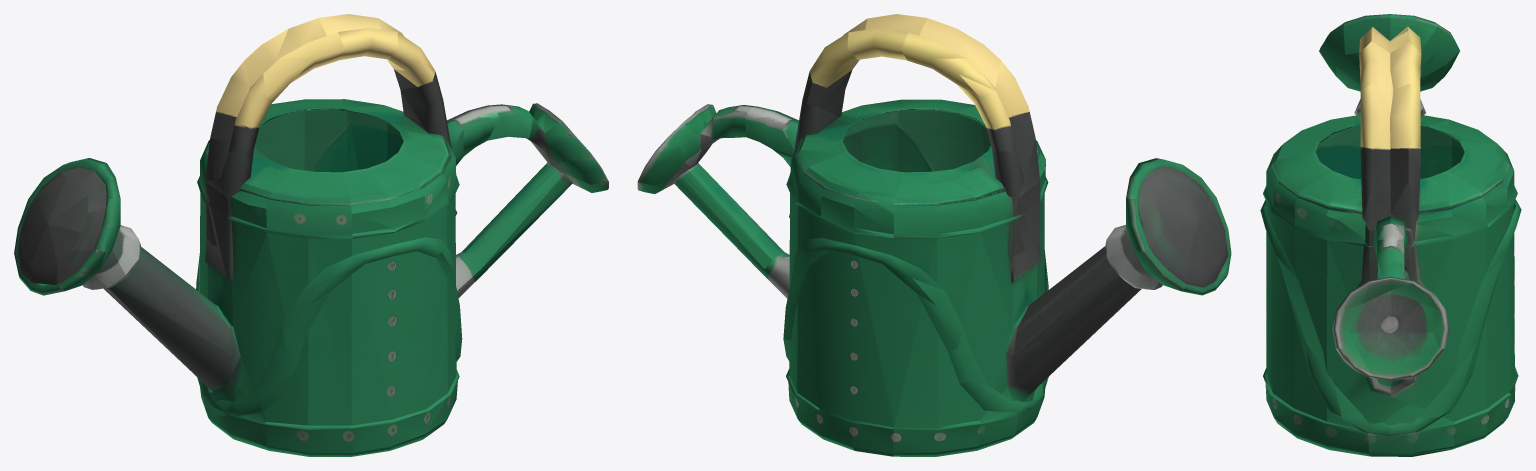
Rendered from watering-can.glb.
3 renders of one model, left to right at view 1: azimuth 30°, elevation 25°; view 2: azimuth 150°, elevation 25°; view 3: azimuth 270°, elevation 25°, orthographic. The views are drawn at different scales.
Size of the model in its own units: 1 by 0.6484 by 0.4199.
1 material, 1 textured.
